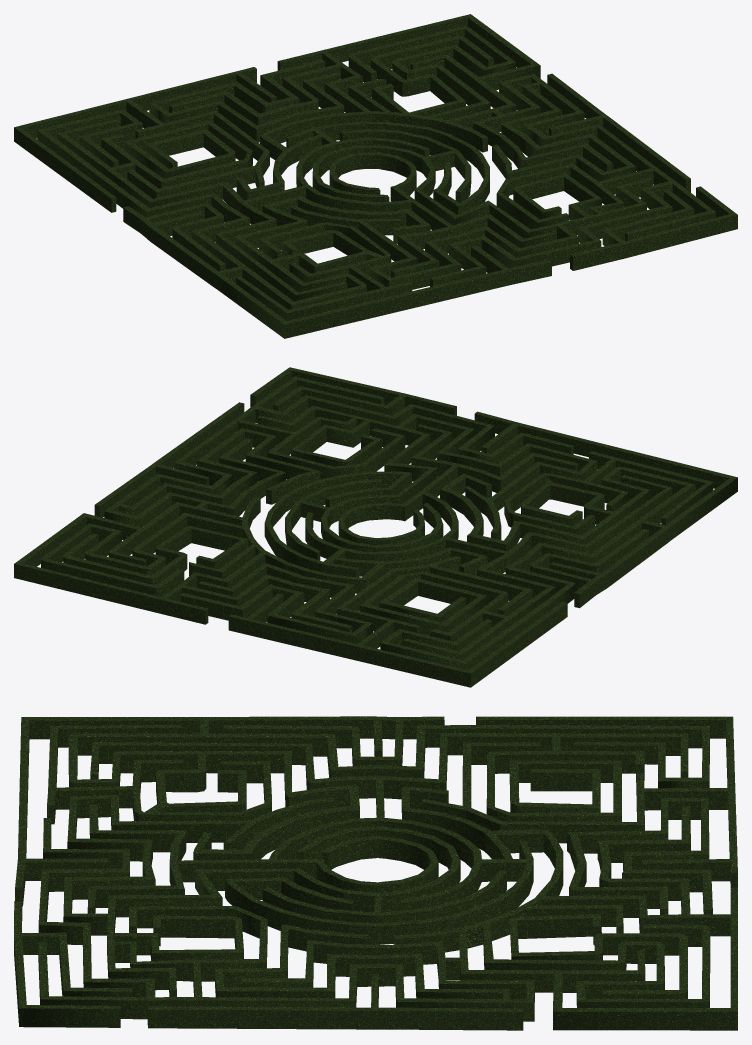
The model's file is labyrinth_lowPoly_withTexturesmaller.fbx.
3 renders of one model, top to bottom at view 1: azimuth 30°, elevation 25°; view 2: azimuth 150°, elevation 25°; view 3: azimuth 270°, elevation 25°, orthographic. The views are drawn at different scales.
Parts seen in each view (by area): view 1: pCube5; view 2: pCube5; view 3: pCube5.
Boxes of the visible parts, x1,y1,x2,y2 form: pCube5: [14, 14, 737, 338]; pCube5: [14, 367, 737, 687]; pCube5: [14, 716, 737, 1030].
Bounding box in the file's own units: 135 × 4.97 × 140.
